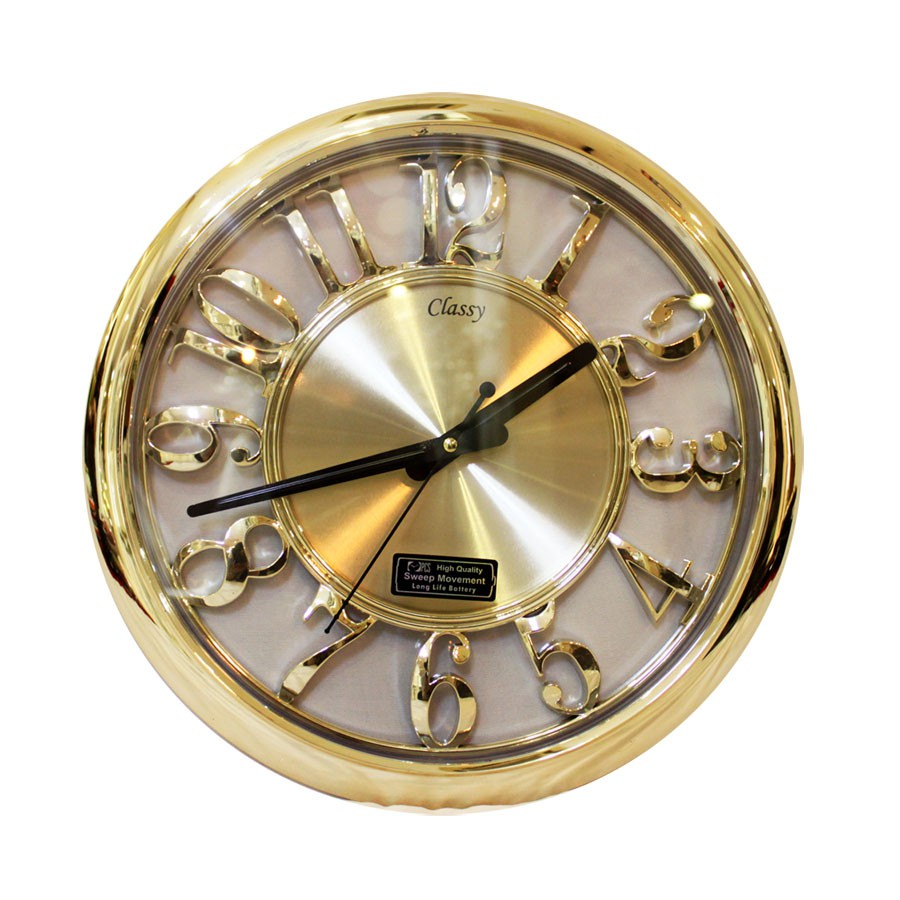jam dinding: (74, 82, 817, 817)
